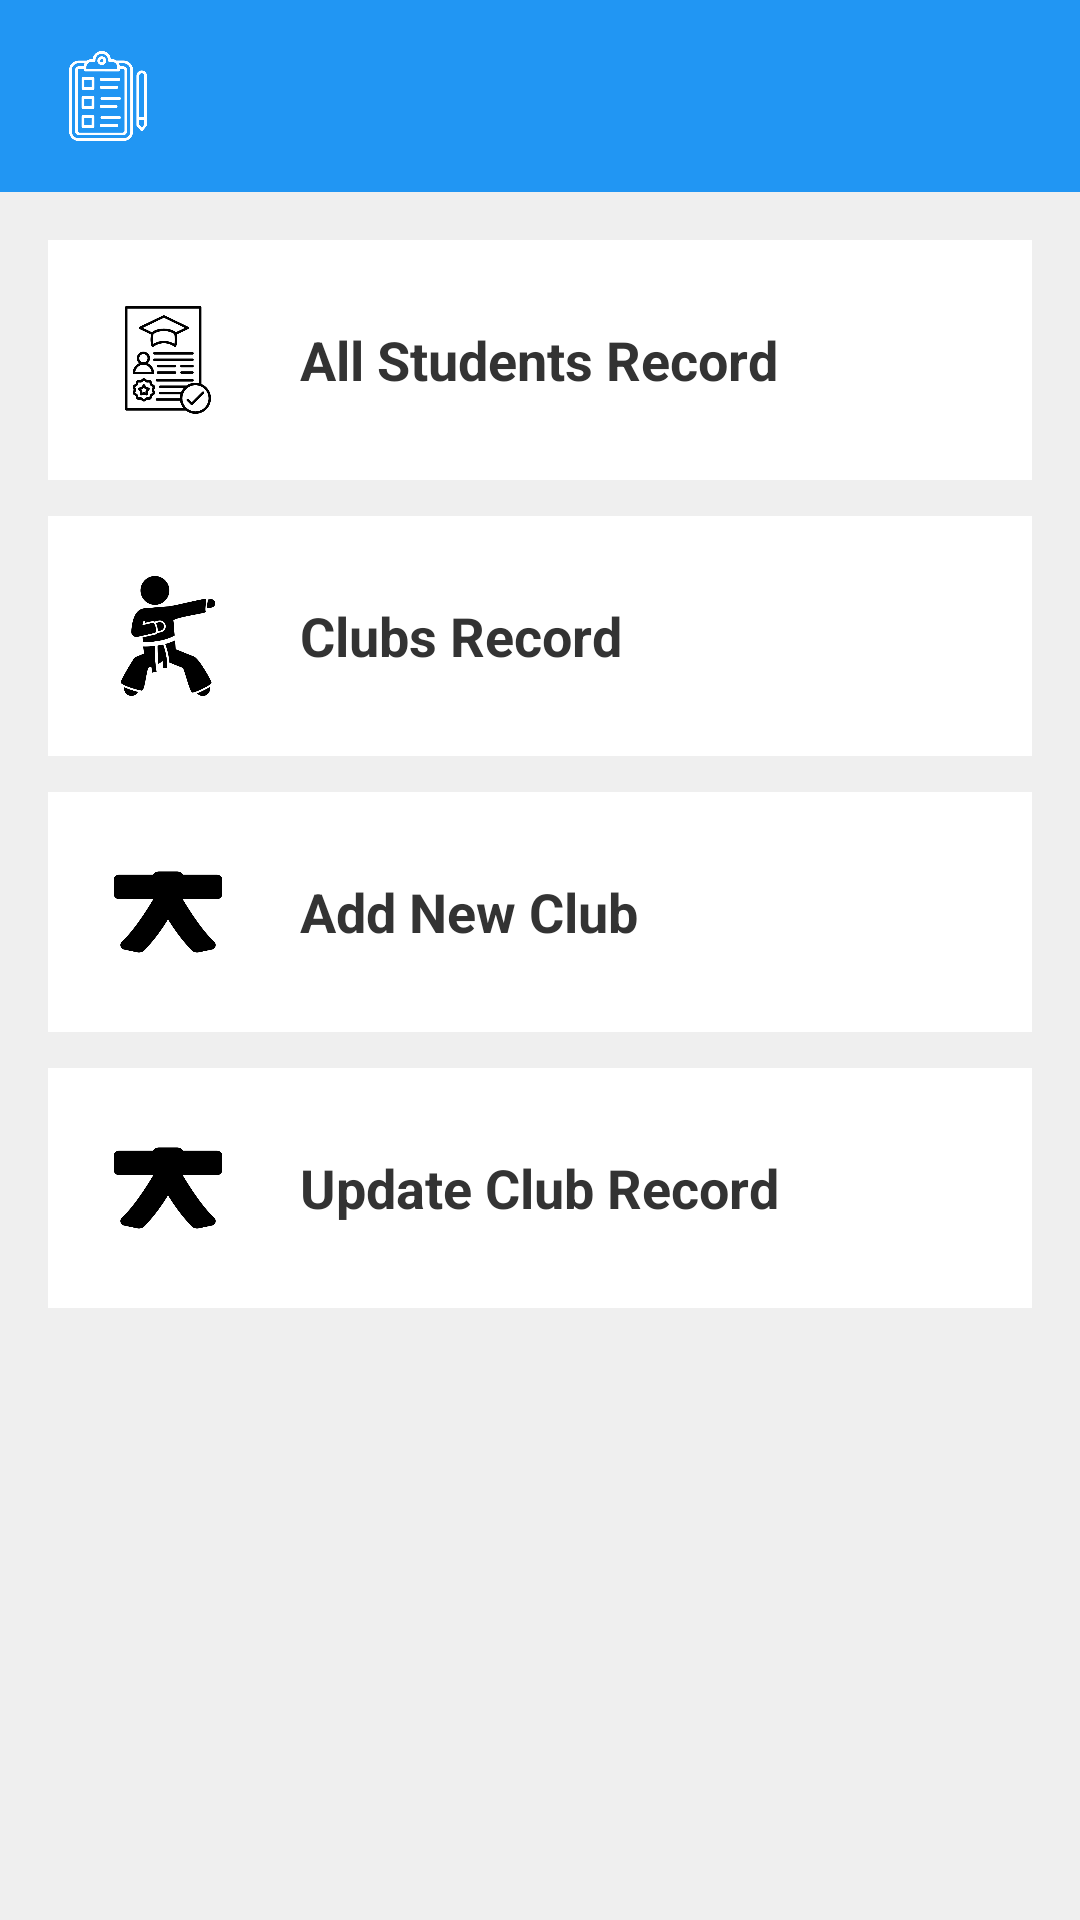

Named icons in this screenshot (1080 x 1920) and their bounding boxes, (x1, y1, x2, y2):
App Icon: (69, 51, 147, 141)
student record: (125, 306, 211, 414)
taekwondo: (121, 576, 215, 696)
